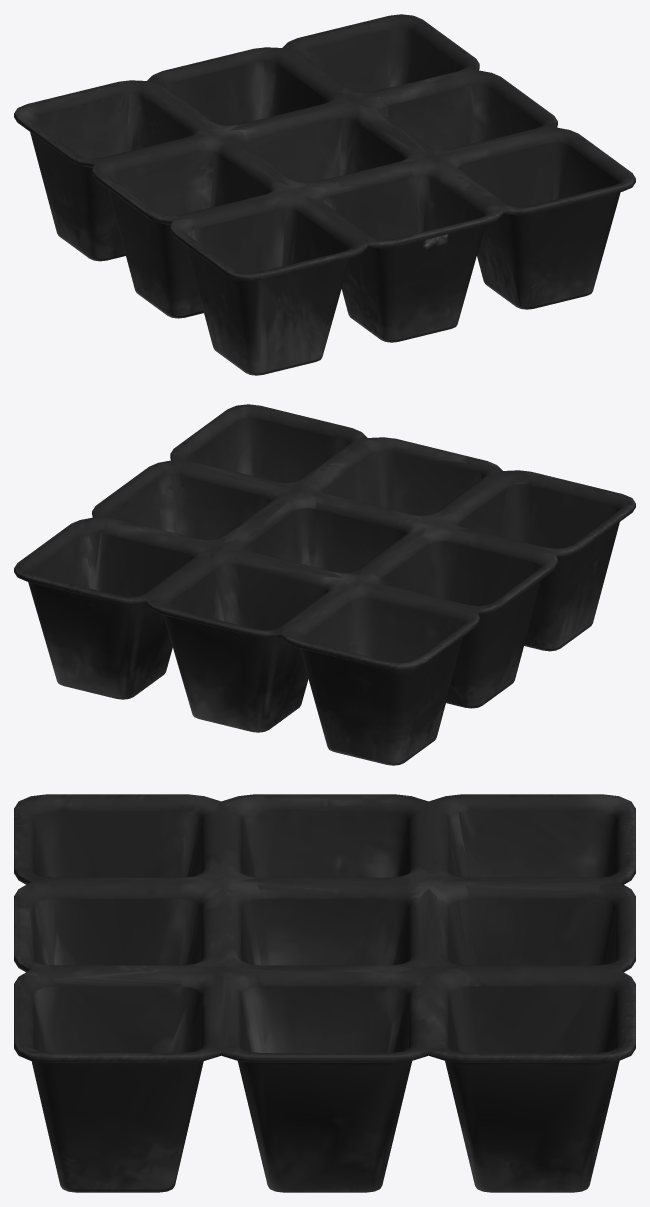
The model's file is seeding-tray-01.glb.
The picture shows the model from 3 angles, top to bottom: view 1: azimuth 30°, elevation 25°; view 2: azimuth 150°, elevation 25°; view 3: azimuth 270°, elevation 25°; orthographic projection. The views are drawn at different scales.
Parts seen in each view (by area): view 1: seeding_tray_01; view 2: seeding_tray_01; view 3: seeding_tray_01.
Part boxes in pixels (x1,y1,x2,y2): seeding_tray_01: [14, 14, 635, 375]; seeding_tray_01: [14, 404, 635, 765]; seeding_tray_01: [14, 794, 635, 1192].
Size of the model in its own units: 0.2202 by 0.0608 by 0.2202.
Materials: 1 (1 with a texture image).
